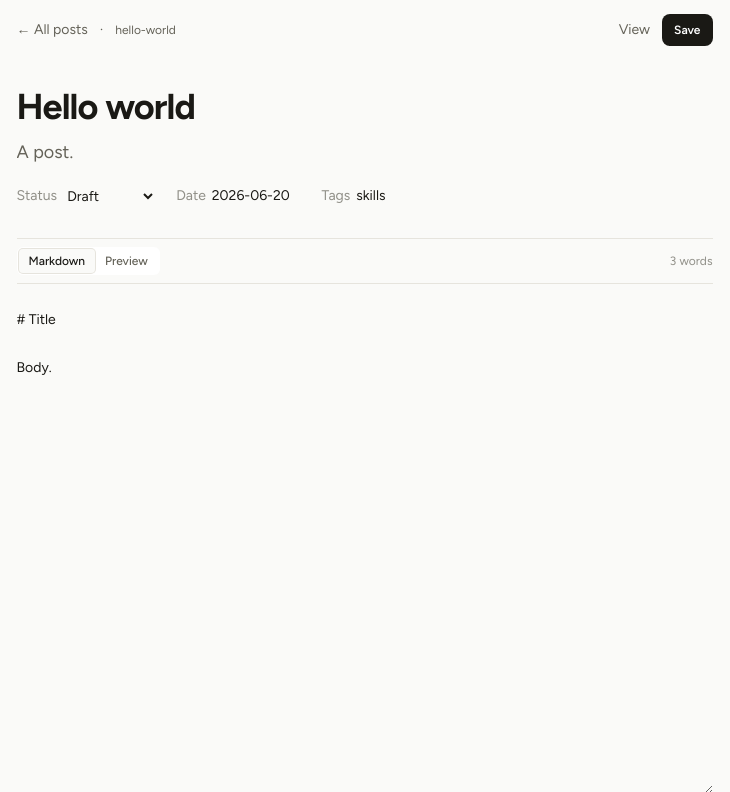
Test case: Admin Editor › switches to preview and renders markdown as HTML
This screenshot has width=730, height=792.
Click the tab "Preview" at point(126, 261), box top-left (95, 249), bottom-right (158, 273)
(page scrolled)
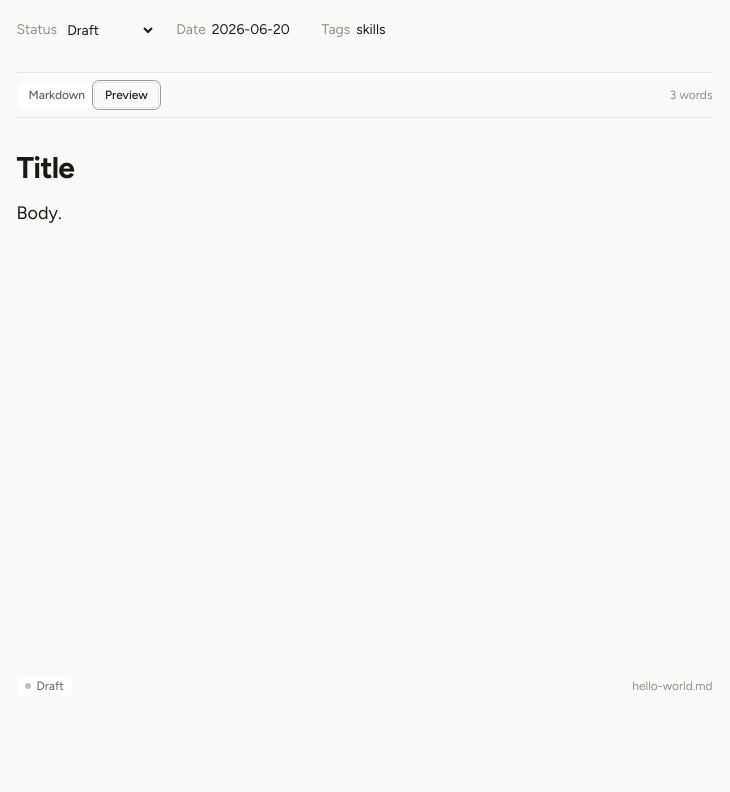
Expected: the field named "Rendered editor" shows "Title", top-left (16, 149), bottom-right (74, 224)
Expected: the field named "Rendered editor" shows "Body.", top-left (16, 149), bottom-right (74, 224)
